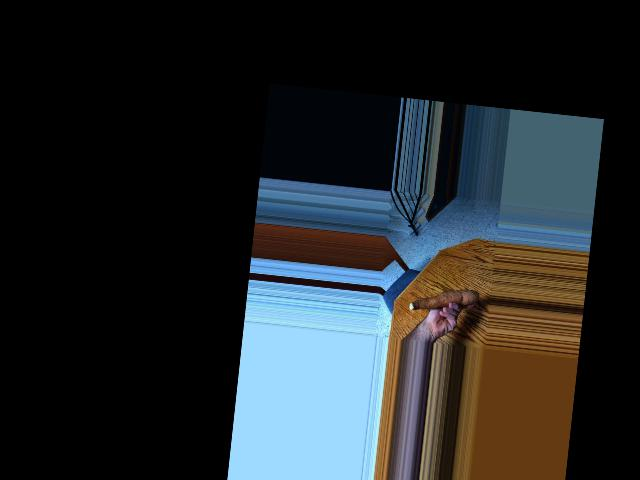sweet_potato: (407, 280, 478, 319)
